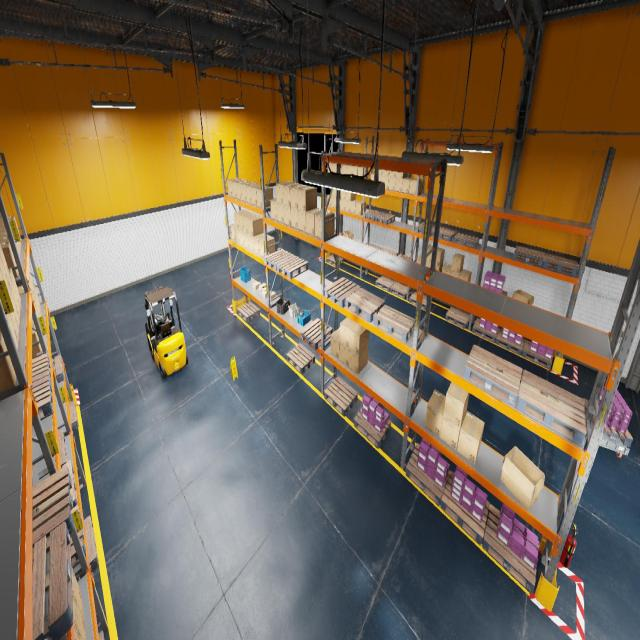box: (500, 446, 545, 510), (457, 410, 484, 464), (444, 382, 469, 428), (424, 390, 446, 438), (0, 329, 16, 393), (440, 412, 466, 450), (71, 567, 84, 621), (0, 242, 18, 278), (348, 323, 368, 355), (0, 219, 21, 247), (0, 228, 20, 257), (348, 345, 368, 374), (0, 224, 20, 252), (0, 216, 21, 242), (74, 595, 86, 639), (315, 211, 334, 238), (8, 284, 20, 326), (340, 317, 356, 348), (8, 268, 21, 306), (298, 186, 316, 212), (290, 184, 308, 209), (9, 276, 20, 316), (6, 314, 18, 349), (17, 283, 35, 306), (282, 183, 300, 206), (306, 208, 321, 235), (0, 243, 10, 283), (276, 181, 293, 204), (256, 186, 273, 207), (259, 235, 275, 257), (512, 289, 534, 305), (32, 324, 42, 359), (247, 216, 264, 236), (0, 255, 9, 291), (250, 185, 266, 205), (330, 328, 340, 359), (236, 180, 251, 200), (254, 233, 268, 254), (246, 183, 260, 203), (243, 214, 257, 234), (241, 182, 255, 201), (232, 179, 246, 198), (238, 212, 252, 231), (451, 253, 464, 273), (228, 178, 242, 196), (234, 210, 247, 229), (10, 312, 19, 339), (339, 342, 349, 366), (409, 178, 421, 194), (402, 177, 414, 193), (72, 589, 77, 626), (298, 209, 306, 232), (290, 207, 298, 229), (283, 204, 291, 226), (35, 303, 41, 330), (276, 202, 284, 222), (34, 284, 40, 310), (29, 276, 35, 302), (459, 269, 471, 282), (270, 198, 277, 220), (436, 247, 444, 266), (34, 291, 40, 316), (356, 201, 366, 215), (357, 166, 368, 178), (350, 200, 360, 213), (426, 245, 433, 262), (73, 617, 78, 639), (29, 272, 34, 294), (450, 269, 462, 278), (388, 177, 396, 190), (230, 223, 236, 240), (35, 296, 40, 316), (442, 263, 451, 274), (395, 178, 402, 191), (382, 176, 389, 189), (343, 230, 353, 239), (346, 192, 356, 201), (244, 232, 249, 249), (249, 235, 254, 251), (435, 262, 443, 272), (235, 228, 240, 243), (240, 229, 244, 246), (346, 165, 352, 176), (396, 172, 407, 178), (262, 290, 270, 298), (77, 628, 82, 640), (336, 198, 341, 209), (352, 166, 357, 177), (0, 236, 9, 242), (18, 286, 24, 295), (328, 194, 332, 207), (342, 164, 347, 174), (262, 284, 269, 291), (253, 282, 260, 289), (259, 283, 266, 290), (270, 291, 276, 299), (346, 200, 350, 212), (341, 191, 346, 200), (336, 190, 341, 199), (332, 163, 337, 172), (341, 199, 345, 210), (332, 197, 336, 208), (389, 171, 396, 177), (328, 162, 332, 172), (0, 268, 3, 280), (417, 255, 421, 264), (383, 170, 389, 176), (0, 232, 7, 237), (332, 189, 336, 197), (370, 172, 374, 180), (340, 164, 343, 173), (378, 170, 382, 176), (426, 262, 430, 267), (379, 176, 382, 182), (32, 318, 34, 324)
forklift: (144, 286, 188, 378)
pallets: (516, 370, 586, 446), (482, 504, 536, 594), (32, 522, 73, 639), (440, 471, 490, 545), (463, 344, 522, 406), (32, 466, 74, 553), (405, 443, 450, 506), (582, 398, 633, 447), (374, 304, 415, 342), (354, 407, 391, 449), (75, 516, 98, 582), (324, 376, 358, 417), (345, 288, 385, 322), (324, 278, 360, 308), (32, 376, 54, 425), (300, 318, 332, 350), (70, 505, 86, 568), (522, 340, 552, 369), (286, 343, 314, 374), (542, 253, 578, 276), (496, 328, 524, 356), (62, 460, 78, 508), (277, 256, 308, 279), (472, 318, 499, 343), (513, 245, 545, 266), (264, 249, 294, 271), (32, 353, 52, 385), (445, 307, 470, 329), (237, 301, 260, 322), (409, 291, 432, 310), (58, 430, 68, 468), (51, 354, 64, 383), (454, 233, 479, 248), (431, 227, 457, 241), (390, 282, 410, 299), (376, 276, 396, 292), (68, 400, 78, 431), (415, 222, 435, 236), (375, 212, 395, 225), (482, 285, 507, 295), (363, 209, 382, 221), (327, 254, 344, 266), (382, 248, 398, 255), (398, 253, 413, 260), (368, 243, 382, 250), (334, 230, 343, 235), (99, 634, 104, 639)
